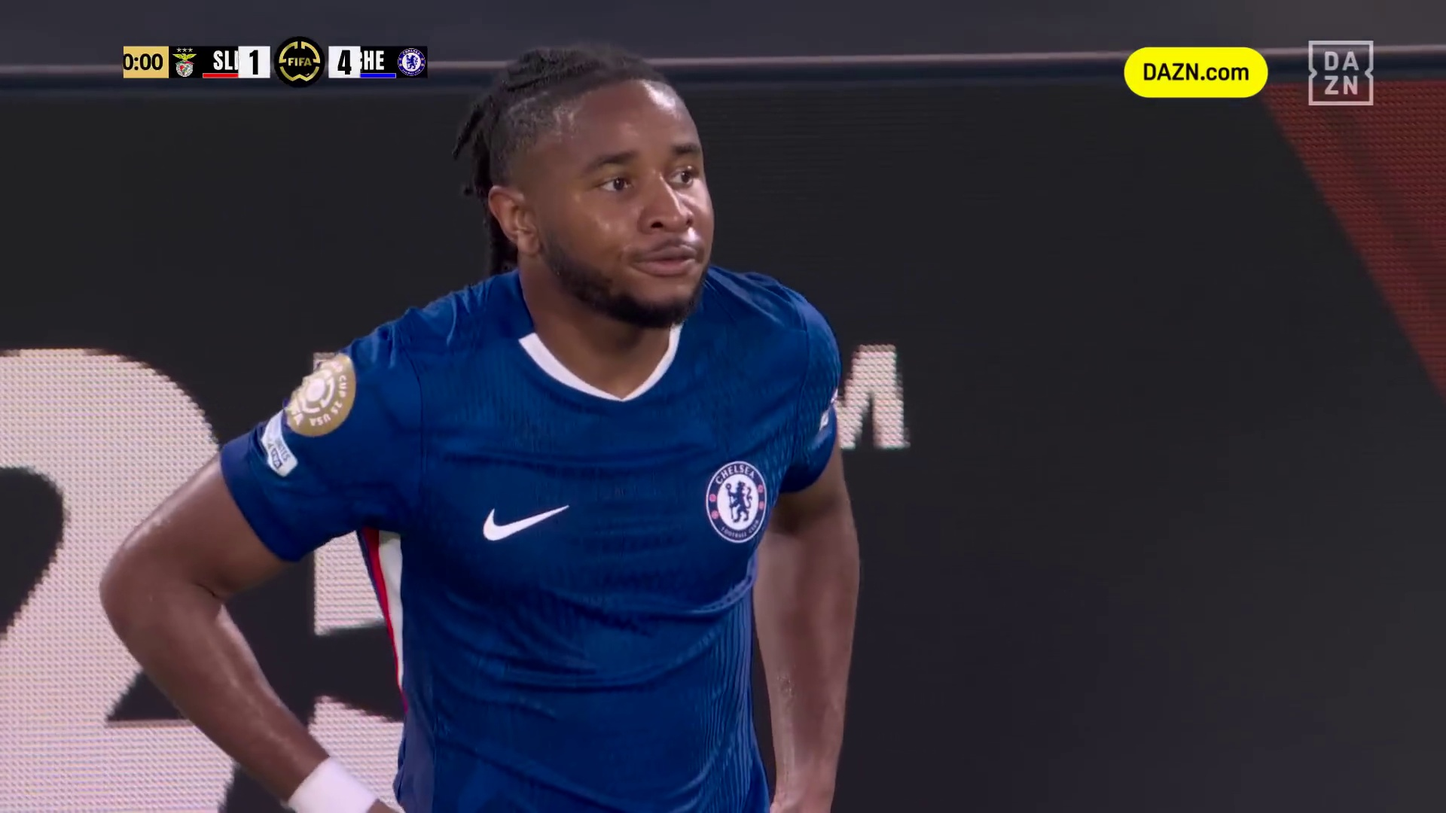player: (98, 36, 867, 812)
